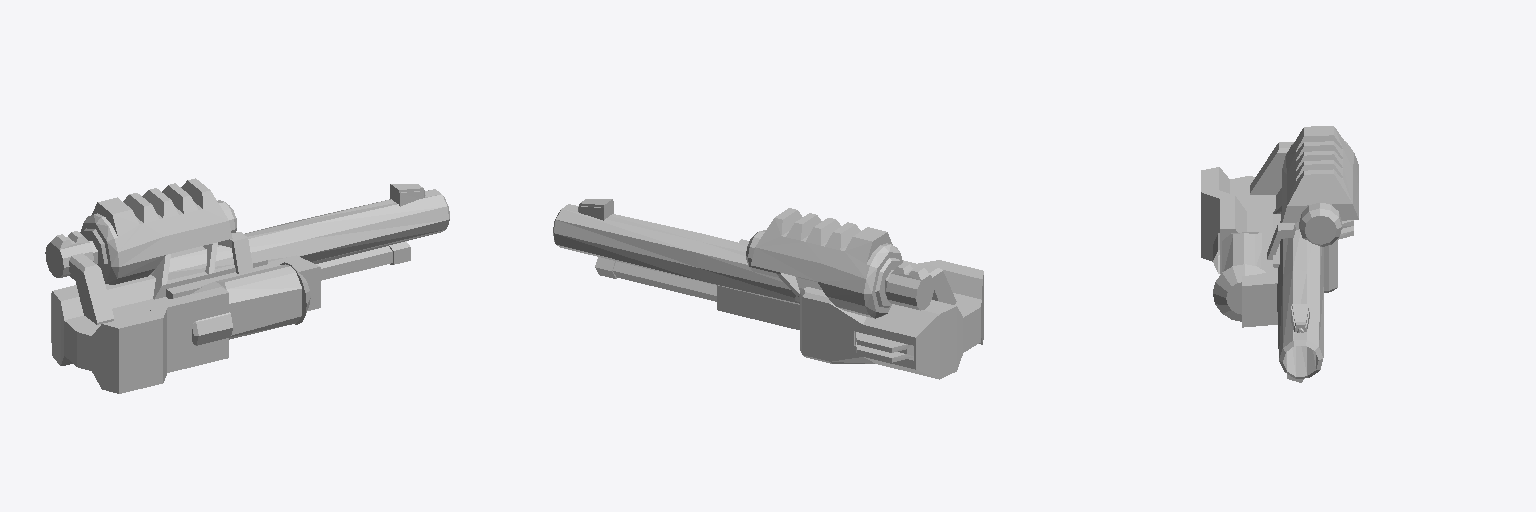
The model's file is emp_shotgun.obj.
3 renders of one model, left to right at view 1: azimuth 30°, elevation 25°; view 2: azimuth 150°, elevation 25°; view 3: azimuth 270°, elevation 25°, orthographic.
Parts seen in each view (by area): view 1: WEP_EMPShotgun_SKEL.mo_WEP_EMPShotgun_SKEL.md; view 2: WEP_EMPShotgun_SKEL.mo_WEP_EMPShotgun_SKEL.md; view 3: WEP_EMPShotgun_SKEL.mo_WEP_EMPShotgun_SKEL.md.
Boxes of the visible parts, x1=… form: WEP_EMPShotgun_SKEL.mo_WEP_EMPShotgun_SKEL.md: x1=45, y1=178, x2=449, y2=393; WEP_EMPShotgun_SKEL.mo_WEP_EMPShotgun_SKEL.md: x1=553, y1=199, x2=983, y2=379; WEP_EMPShotgun_SKEL.mo_WEP_EMPShotgun_SKEL.md: x1=1201, y1=126, x2=1358, y2=382.
Bounding box in the file's own units: 2.5 × 0.8057 × 0.8736.